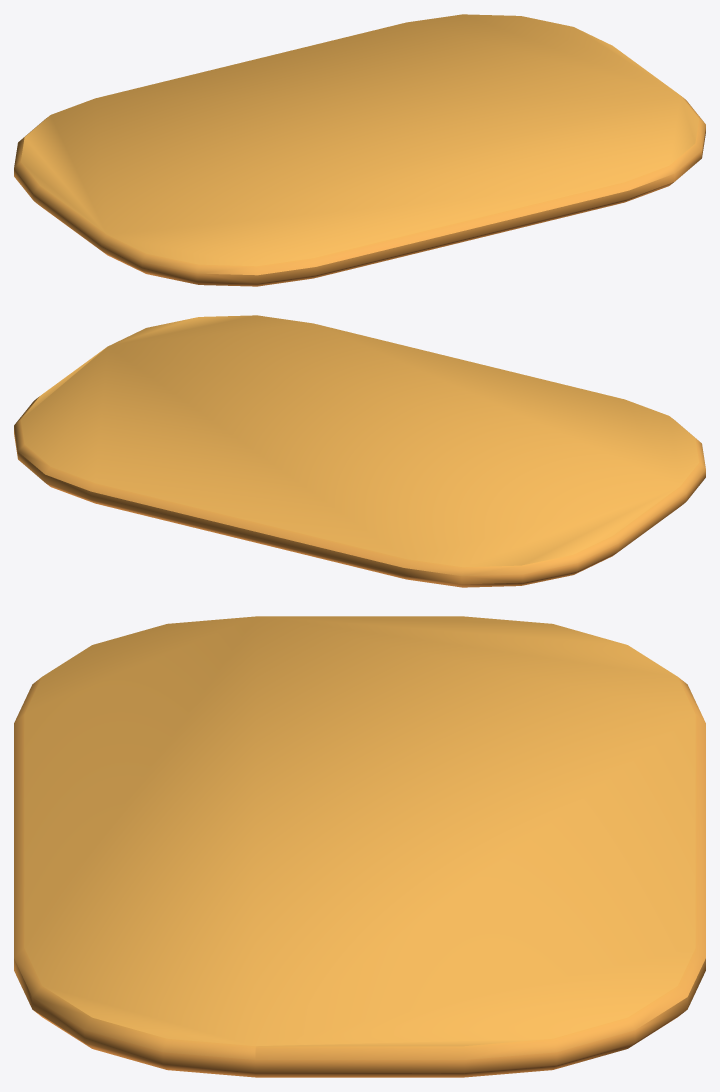
Rendered from fur-rug-oval-a.glb.
3 renders of one model, top to bottom at view 1: azimuth 30°, elevation 25°; view 2: azimuth 150°, elevation 25°; view 3: azimuth 270°, elevation 25°, orthographic. The views are drawn at different scales.
Visible parts, largest first — view 1: rug_oval_A; view 2: rug_oval_A; view 3: rug_oval_A.
Boxes of the visible parts, x1=… form: rug_oval_A: x1=14, y1=14, x2=705, y2=286; rug_oval_A: x1=14, y1=315, x2=705, y2=587; rug_oval_A: x1=14, y1=616, x2=705, y2=1077.
Bounding box in the file's own units: 3 × 0.1 × 2.
Materials: 1 (1 with a texture image).
